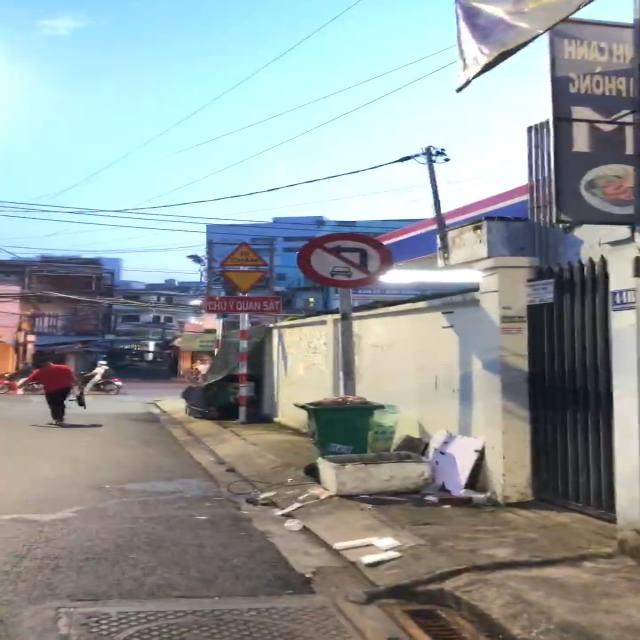Bien bao cam xe o to re trai: (292, 230, 406, 290)
